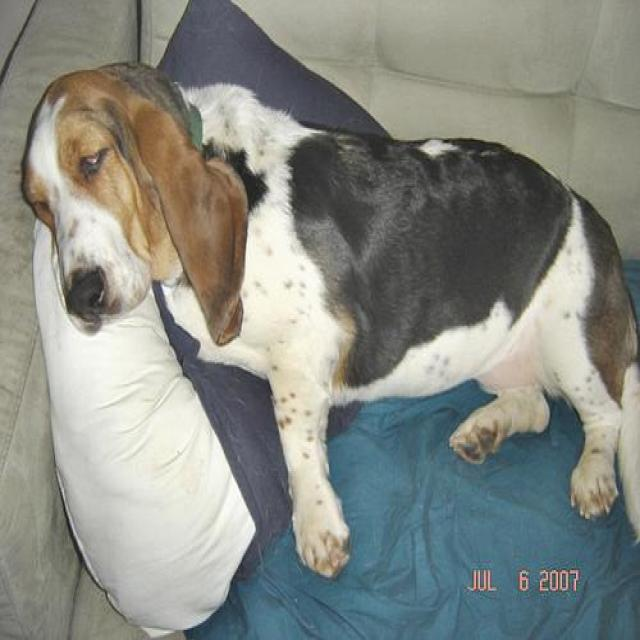basset: (21, 59, 638, 578)
